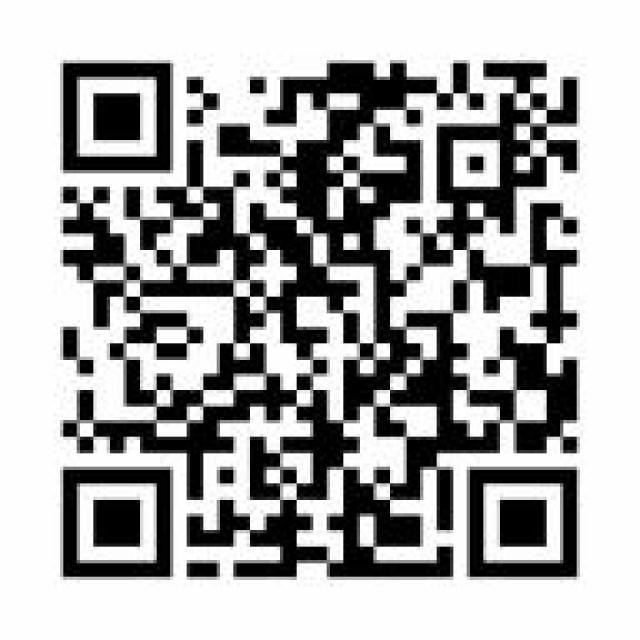qr_code: (61, 61, 579, 579)
